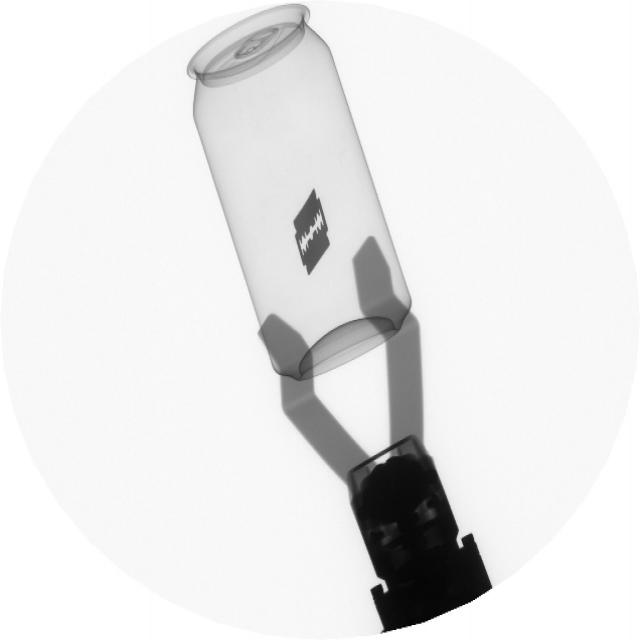BLADE: (288, 179, 335, 289)
